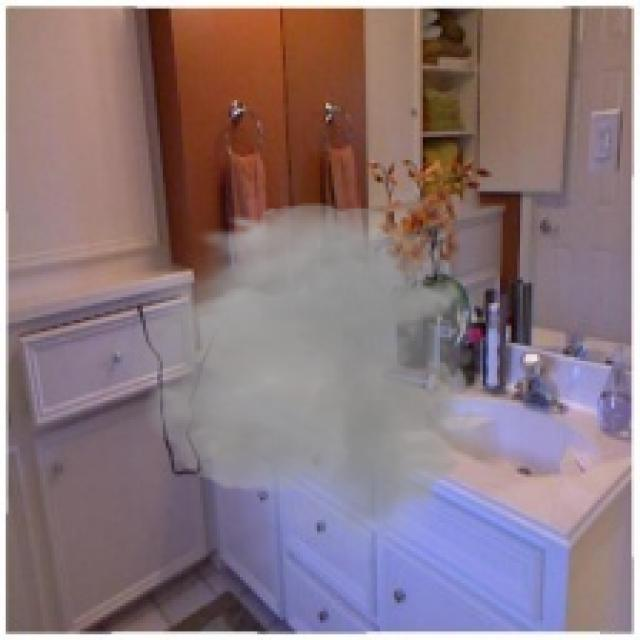smoke: (97, 194, 514, 563)
